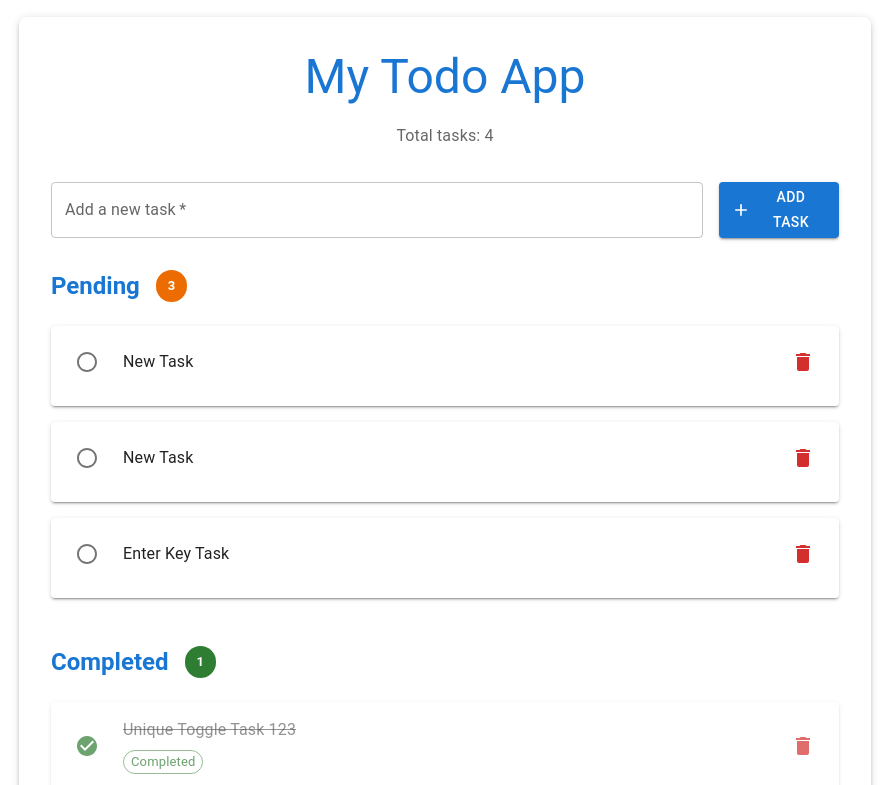
App › should delete a task
In the field labelled "Add a new task *": (377, 210) [51, 182, 703, 238], type "Unique Delete Task 456"
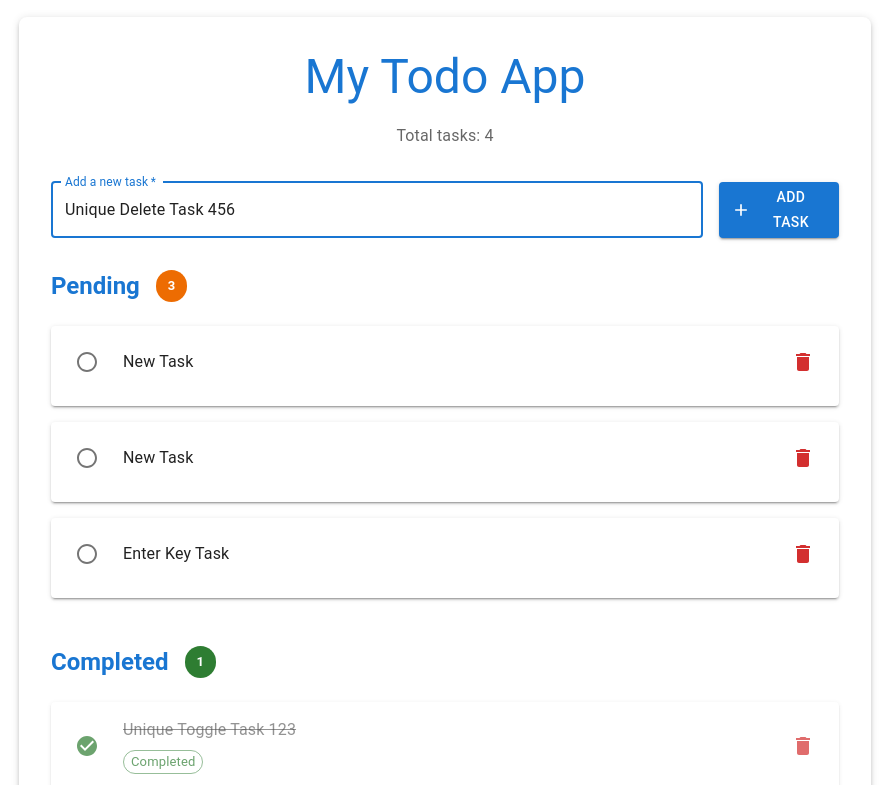
Click the button "Add Task": (779, 210) [719, 182, 839, 238]
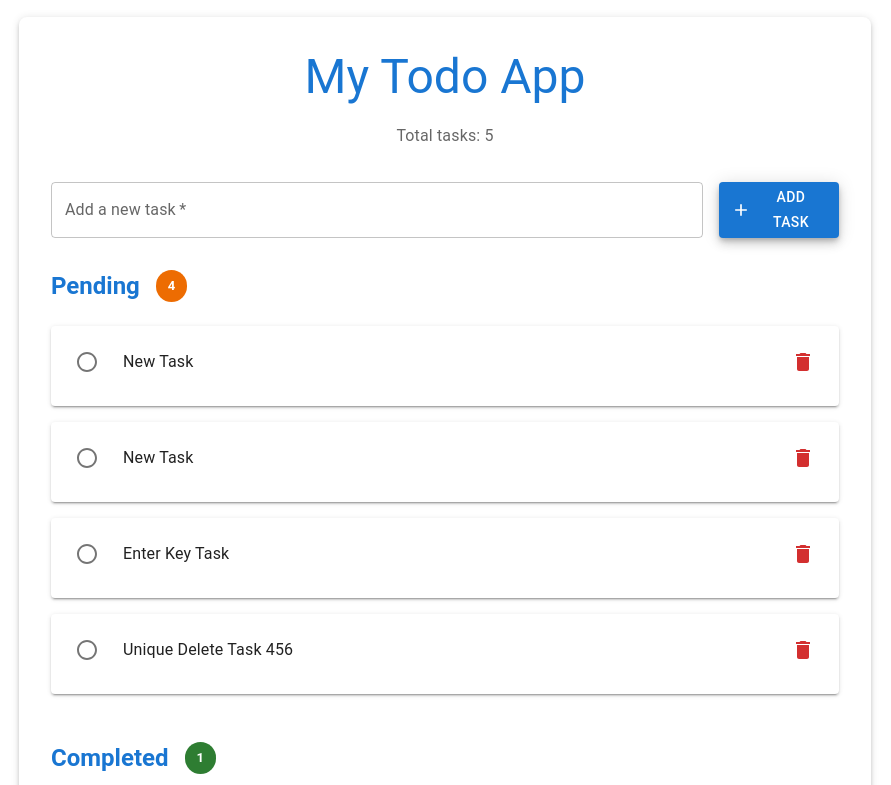
Check: the text "Unique Delete Task 456" is shown, box [123, 640, 293, 659]
Check: the button named "Delete task" in the row of "Unique Delete Task 456" is shown
Click the button named "Delete task" in the row of "Unique Delete Task 456": (803, 650) [783, 630, 823, 670]
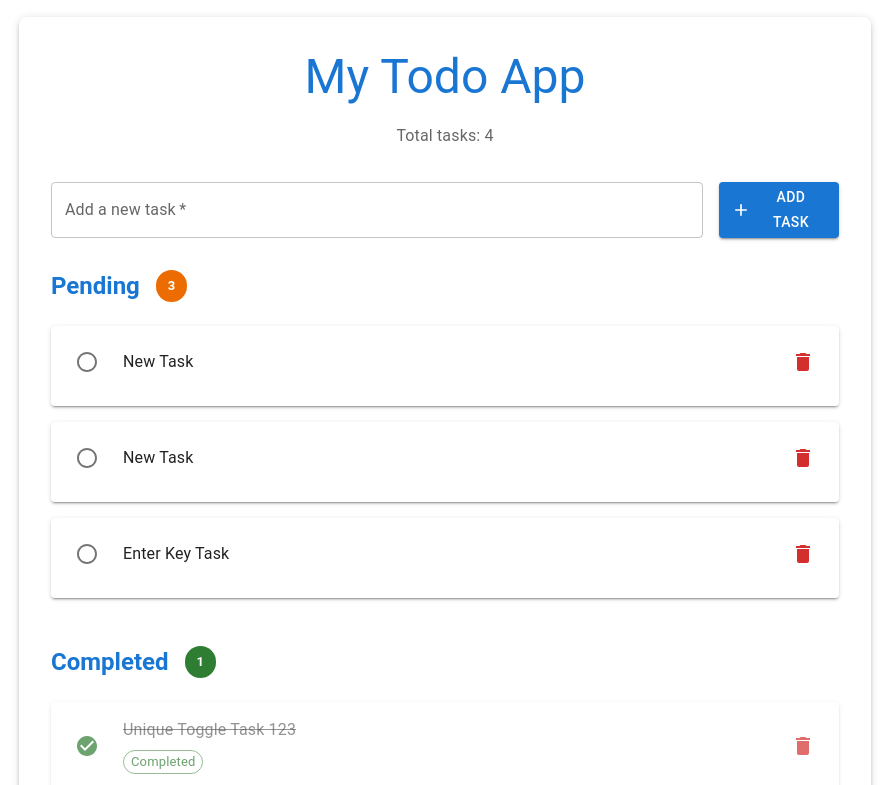
Check: the text "Unique Delete Task 456" is gone
